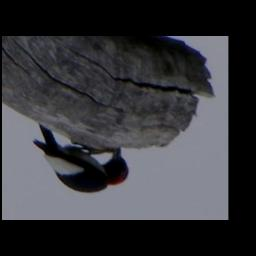Woodpecker: (29, 122, 133, 196)
